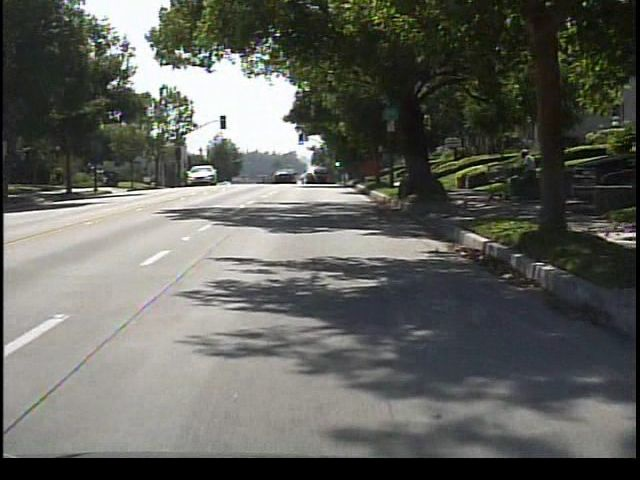person: (514, 147, 537, 203)
